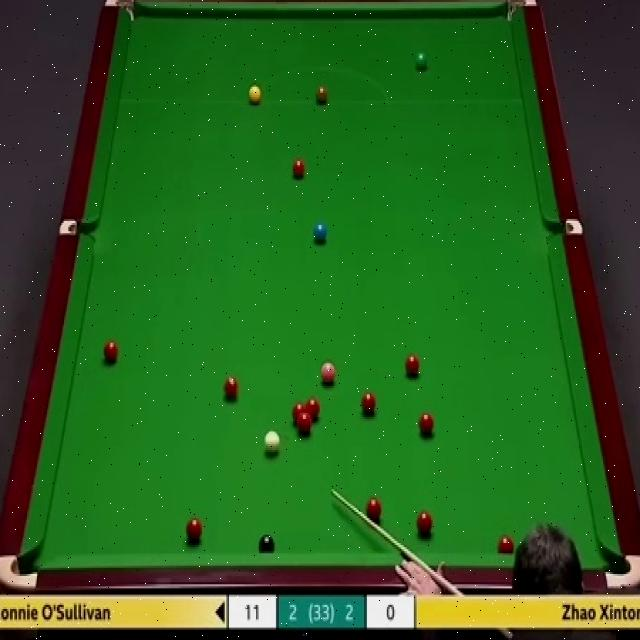black-ball: (258, 534, 277, 555)
blue-ball: (312, 223, 328, 244)
brown-ball: (315, 82, 328, 103)
green-ball: (412, 50, 428, 72)
pink-ball: (320, 362, 337, 388)
red-ball: (358, 389, 376, 416), (404, 352, 422, 379), (185, 516, 202, 544), (365, 498, 382, 524), (415, 512, 433, 536), (418, 412, 433, 440), (222, 374, 238, 400), (290, 156, 306, 181), (292, 402, 306, 428), (104, 340, 118, 365), (306, 398, 320, 422), (498, 534, 514, 554), (298, 416, 313, 436)
white-ball: (264, 431, 280, 456)
yellow-ball: (247, 86, 262, 104)
